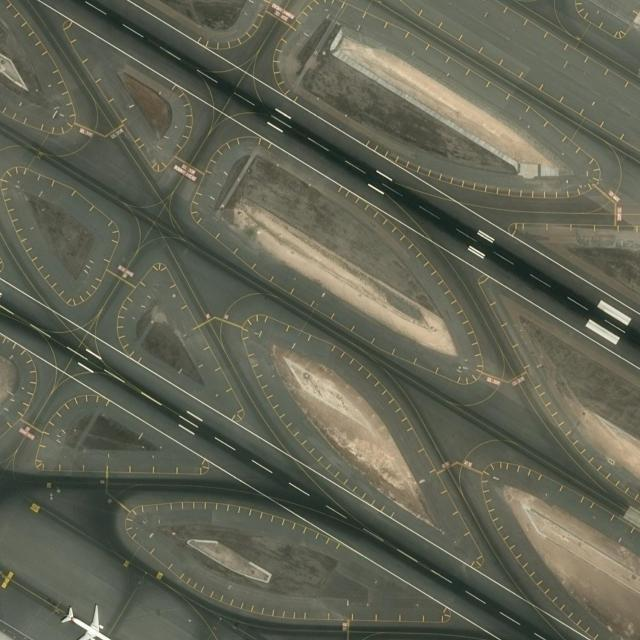Aircraft: (55, 598, 121, 640)
